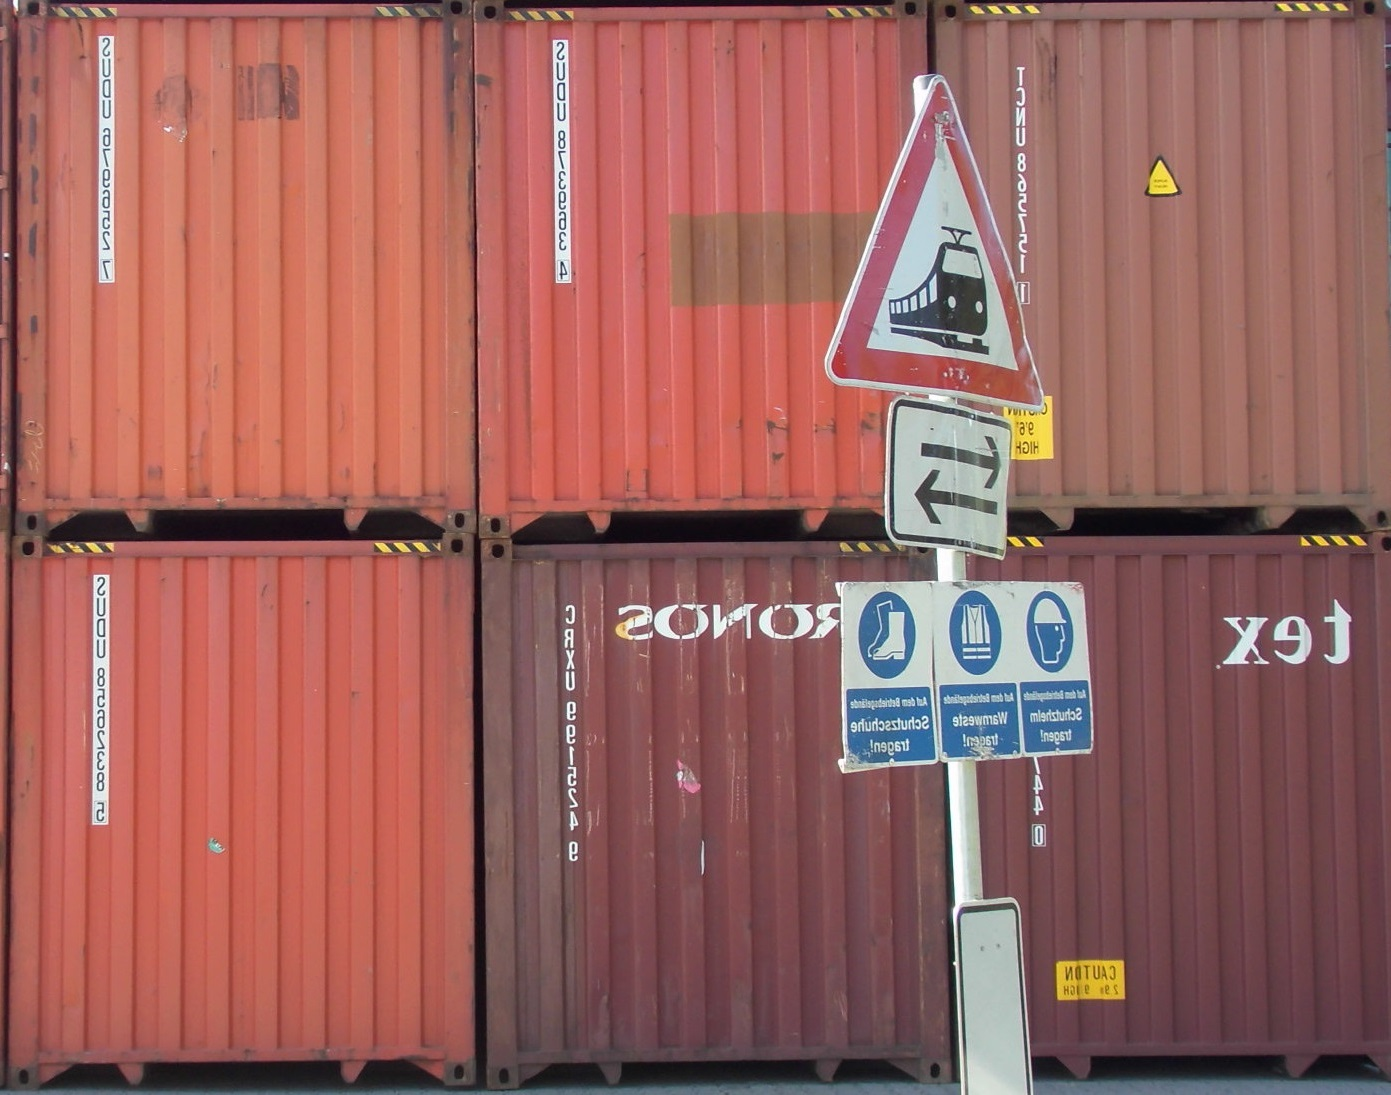container_no_door: (487, 538, 945, 1087), (17, 538, 475, 1087), (19, 3, 481, 533), (475, 1, 937, 529), (945, 1, 1391, 529), (959, 536, 1391, 1079)
